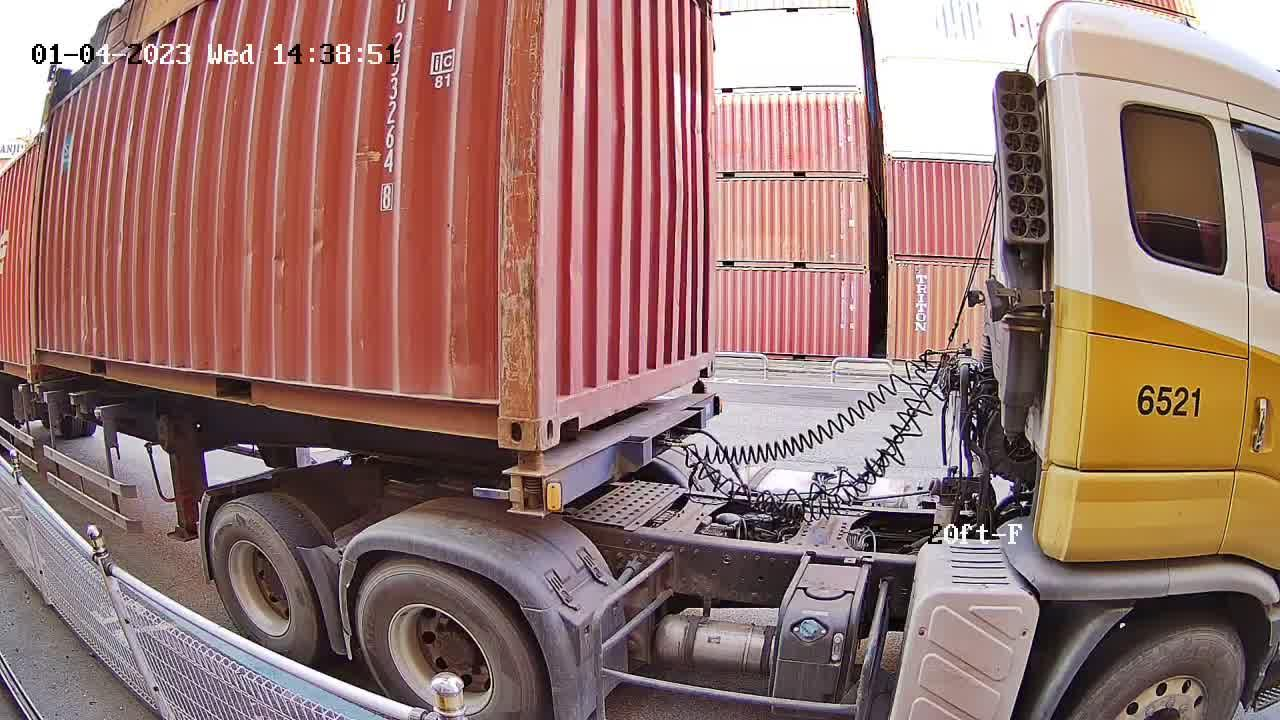Chassis: (507, 390, 716, 518)
Cone: (508, 453, 542, 514)
Hole_L: (534, 367, 586, 450)
Hole_R: (468, 371, 536, 452), (693, 336, 717, 378)
Tire: (362, 562, 536, 716), (206, 502, 318, 669)
